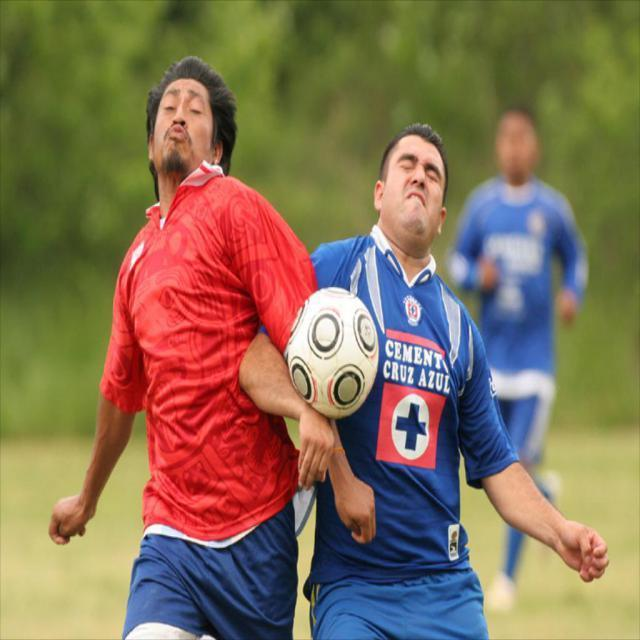football: (281, 278, 399, 420)
